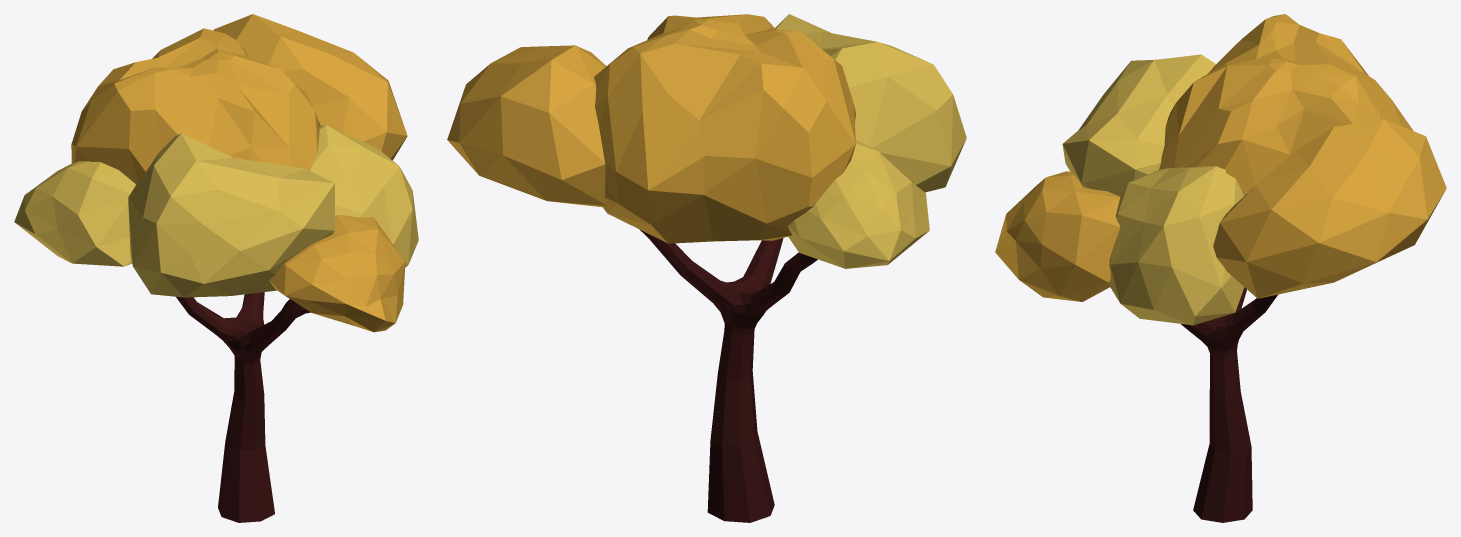
The model's file is savanna_tree_2.fbx.
3 views of the same model, side by side, from view 1: azimuth 30°, elevation 25°; view 2: azimuth 150°, elevation 25°; view 3: azimuth 270°, elevation 25° (orthographic). The views are drawn at different scales.
Parts seen in each view (by area): view 1: tree5_Cube.011, tree5_Cube.014, tree5_Cube.015, tree5_Cube.010, tree5_Cube.016, tree5_Cube.012, tree5_Cube.017; view 2: tree5_Cube.014, tree5_Cube.015, tree5_Cube.010, tree5_Cube.011, tree5_Cube.012; view 3: tree5_Cube.015, tree5_Cube.014, tree5_Cube.017, tree5_Cube.016, tree5_Cube.011, tree5_Cube.010.
Part boxes in pixels (<box>): tree5_Cube.011: <box>128,133,334,297</box>; tree5_Cube.014: <box>71,28,320,184</box>; tree5_Cube.015: <box>213,14,407,160</box>; tree5_Cube.010: <box>176,292,310,522</box>; tree5_Cube.016: <box>269,215,405,332</box>; tree5_Cube.012: <box>14,161,135,266</box>; tree5_Cube.017: <box>310,125,418,267</box>; tree5_Cube.014: <box>594,14,855,243</box>; tree5_Cube.015: <box>447,45,607,207</box>; tree5_Cube.010: <box>639,229,817,522</box>; tree5_Cube.011: <box>775,14,966,192</box>; tree5_Cube.012: <box>788,140,929,268</box>; tree5_Cube.015: <box>1213,119,1446,298</box>; tree5_Cube.014: <box>1159,14,1413,195</box>; tree5_Cube.017: <box>1109,165,1244,325</box>; tree5_Cube.016: <box>995,171,1120,301</box>; tree5_Cube.011: <box>1062,54,1215,196</box>; tree5_Cube.010: <box>1181,287,1277,522</box>.
Bounding box in the file's own units: 1219 × 1393 × 1251.
